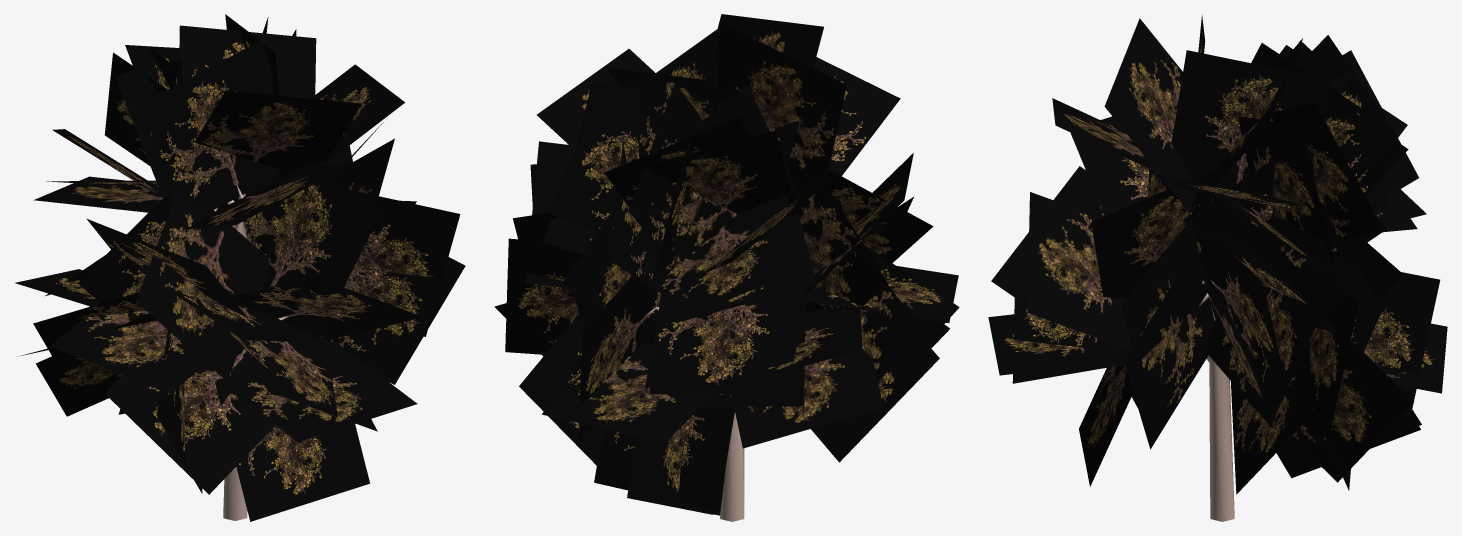
Rendered from tree42.glb.
3 views of the same model, side by side, from view 1: azimuth 30°, elevation 25°; view 2: azimuth 150°, elevation 25°; view 3: azimuth 270°, elevation 25° (orthographic).
Size of the model in its own units: 6.33 by 7.24 by 6.23.
Materials: 2 (1 with a texture image).
